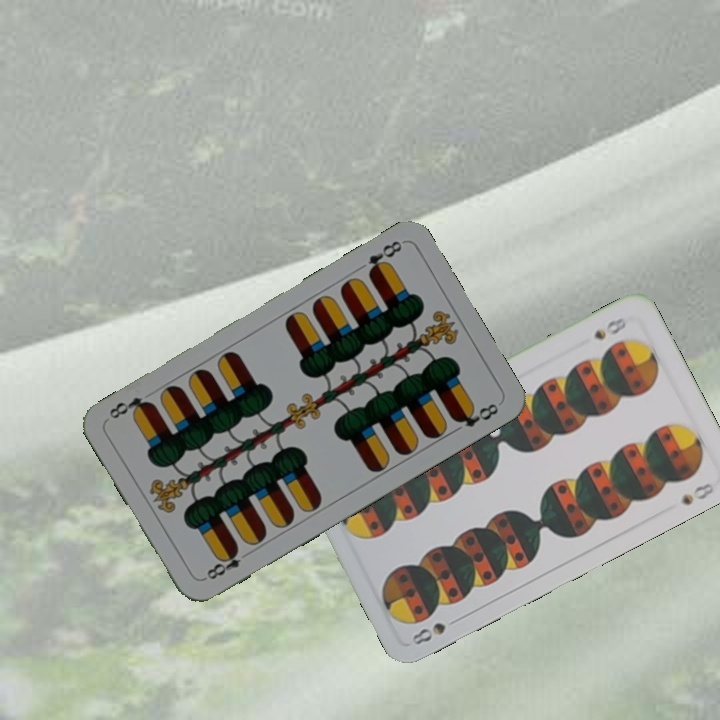E8: (199, 543, 253, 583), (363, 236, 405, 279)
S8: (407, 613, 463, 648), (589, 313, 630, 343)
